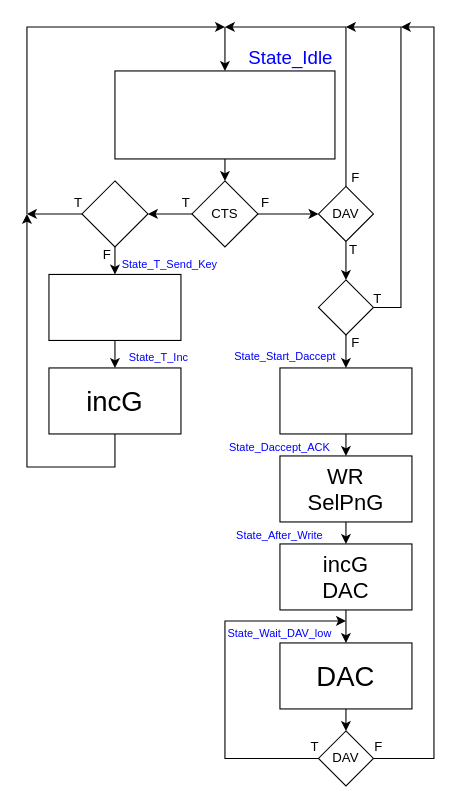
Image size: 462x805. Some labels were removed from this diagram. Here are the shapes that lost their labels. From the top down, the box of each, then its label:
(81, 180, 148, 247): Empty
(48, 273, 181, 340): Wreg
(317, 279, 373, 335): Full
(279, 367, 412, 434): SelPnG
